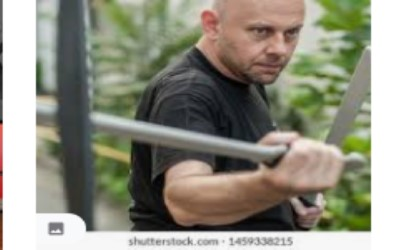baston_e: (91, 103, 274, 175), (327, 70, 371, 145)
baston_v: (339, 144, 380, 185), (354, 34, 378, 93)
